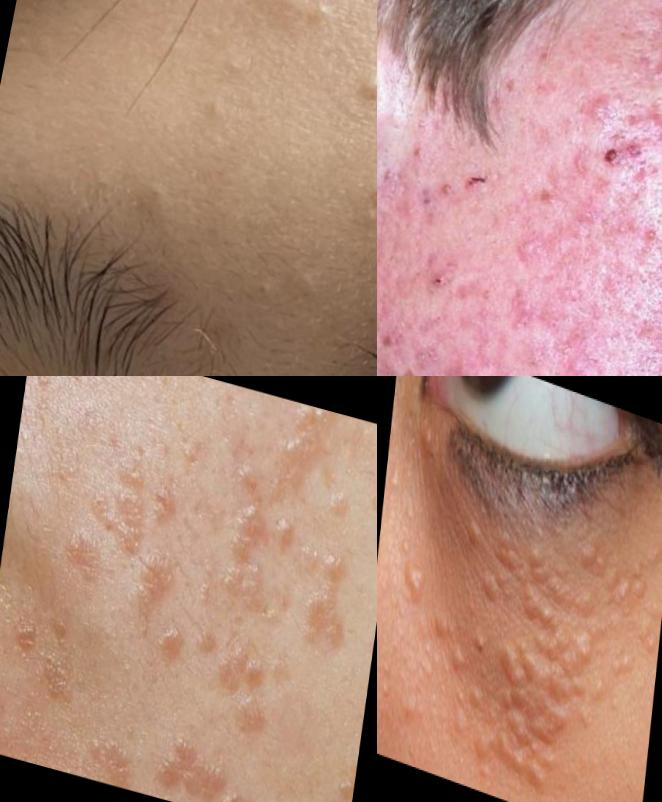blackhead: (140, 182, 184, 227), (239, 278, 277, 324)
flat_wart: (545, 597, 642, 736), (215, 492, 303, 632), (516, 546, 608, 676), (84, 449, 171, 582), (286, 532, 364, 664), (493, 629, 587, 738), (207, 629, 284, 745), (263, 401, 347, 506), (148, 726, 259, 802), (489, 699, 565, 799), (458, 501, 524, 615), (428, 608, 498, 715), (578, 521, 655, 618), (139, 443, 201, 545), (129, 540, 185, 632), (83, 728, 150, 795), (146, 604, 200, 675), (58, 520, 110, 592), (36, 650, 82, 714), (188, 611, 228, 667), (400, 555, 434, 607), (24, 377, 77, 408), (329, 765, 356, 802)
milium: (384, 446, 411, 519)
papular: (399, 248, 473, 322), (585, 133, 661, 193), (620, 25, 662, 110), (501, 220, 554, 283)
whitehead: (195, 88, 230, 139), (212, 48, 258, 85), (633, 219, 662, 275), (354, 172, 378, 237), (348, 74, 378, 119), (319, 1, 352, 38)
